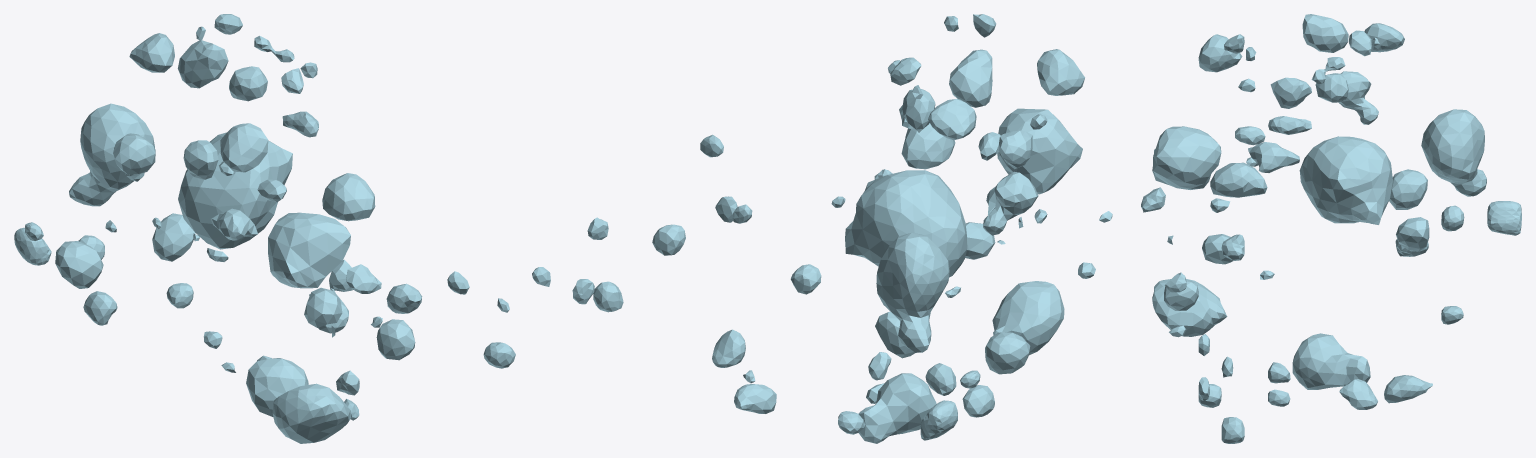
File: livertumors.obj
3 views of the same model, side by side, from view 1: azimuth 30°, elevation 25°; view 2: azimuth 150°, elevation 25°; view 3: azimuth 270°, elevation 25° (orthographic). The views are drawn at different scales.
Visible parts, largest first — view 1: grp1; view 2: grp1; view 3: grp1.
Boxes of the visible parts, x1,y1,x2,y2 form: grp1: (14, 14, 623, 443); grp1: (652, 14, 1112, 443); grp1: (1141, 14, 1521, 443).
Bounding box in the file's own units: 168 × 131 × 132.
